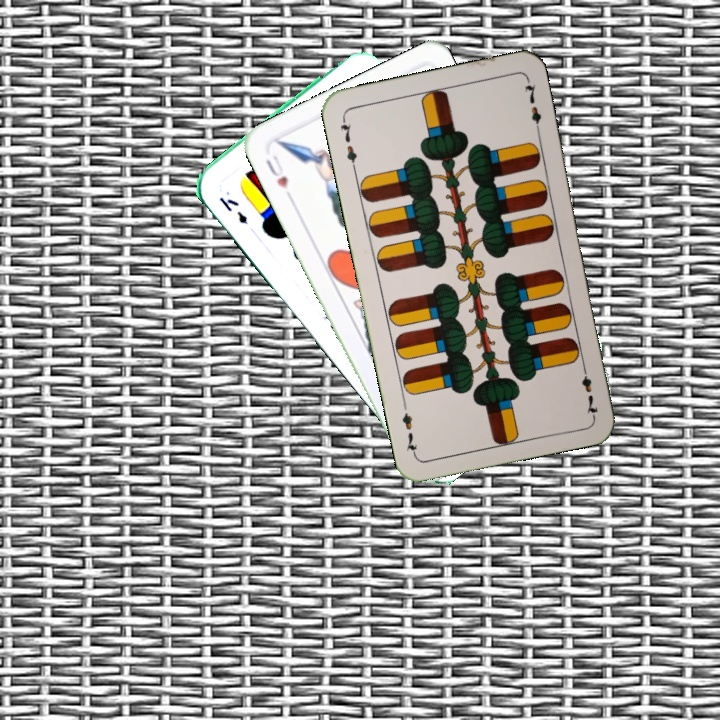E7: (336, 114, 360, 173), (577, 360, 601, 418)
EK: (215, 193, 251, 227)
HU: (262, 151, 291, 192)
